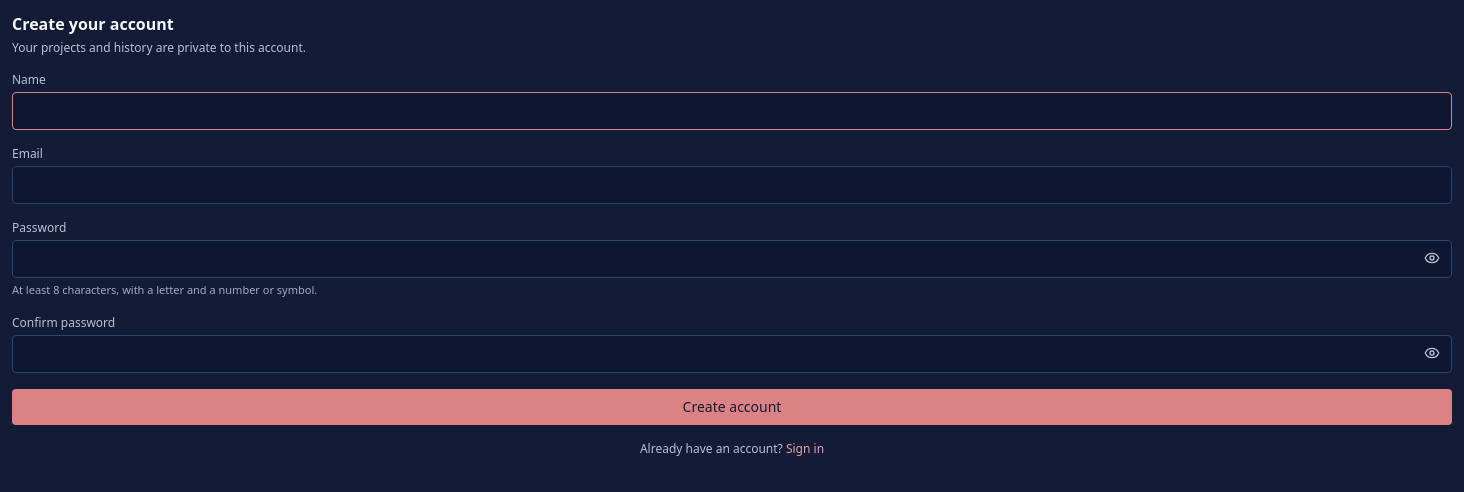
Test: RegisterForm › validates password rules and confirmation locally
The width and height of the screenshot is (1464, 492).
Type "Ada" into the field labelled "Name" at (732, 111), box [12,92,1452,130]
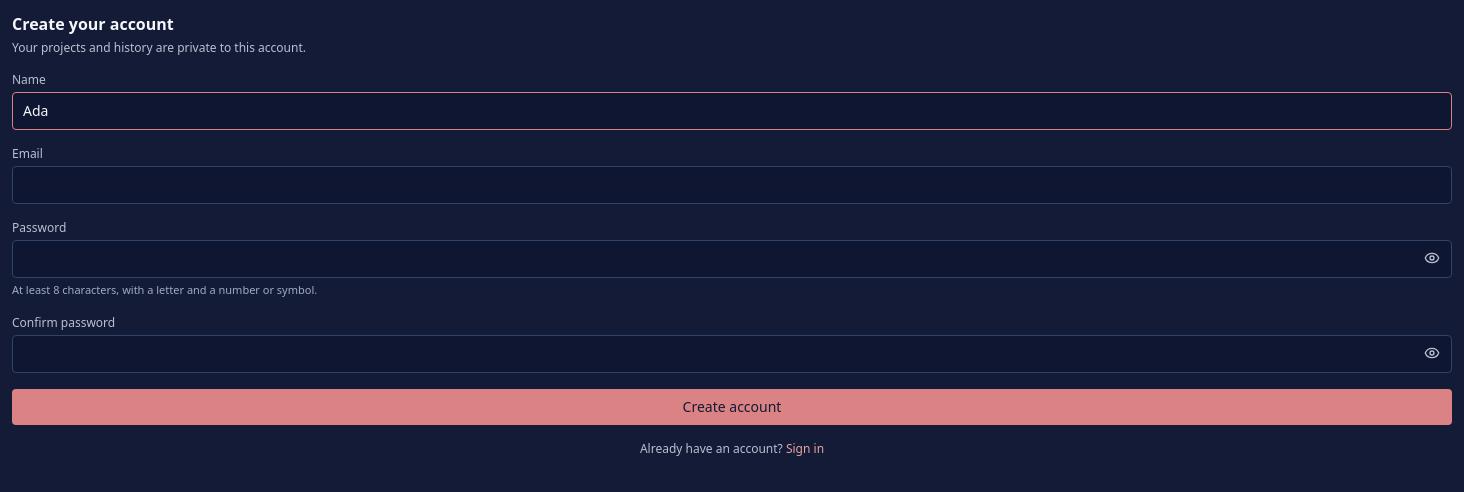
Type "ada@example.com" into the field labelled "Email" at (732, 185), box [12,166,1452,204]
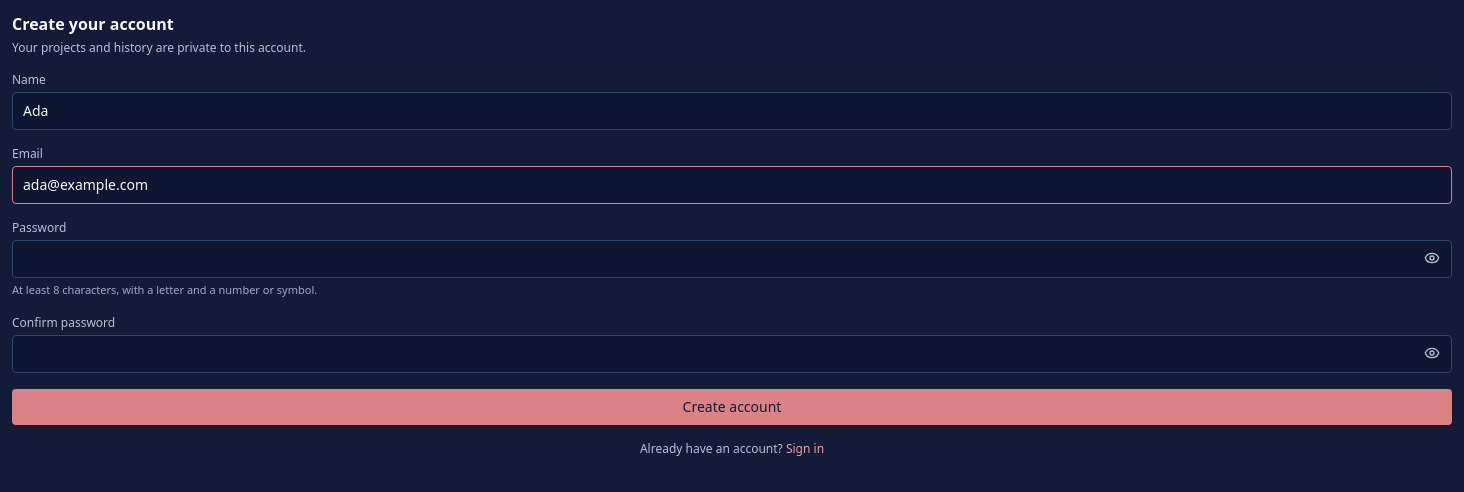
Type "onlyletters" into the password field labelled "Password" at (732, 259), box [12,240,1452,278]
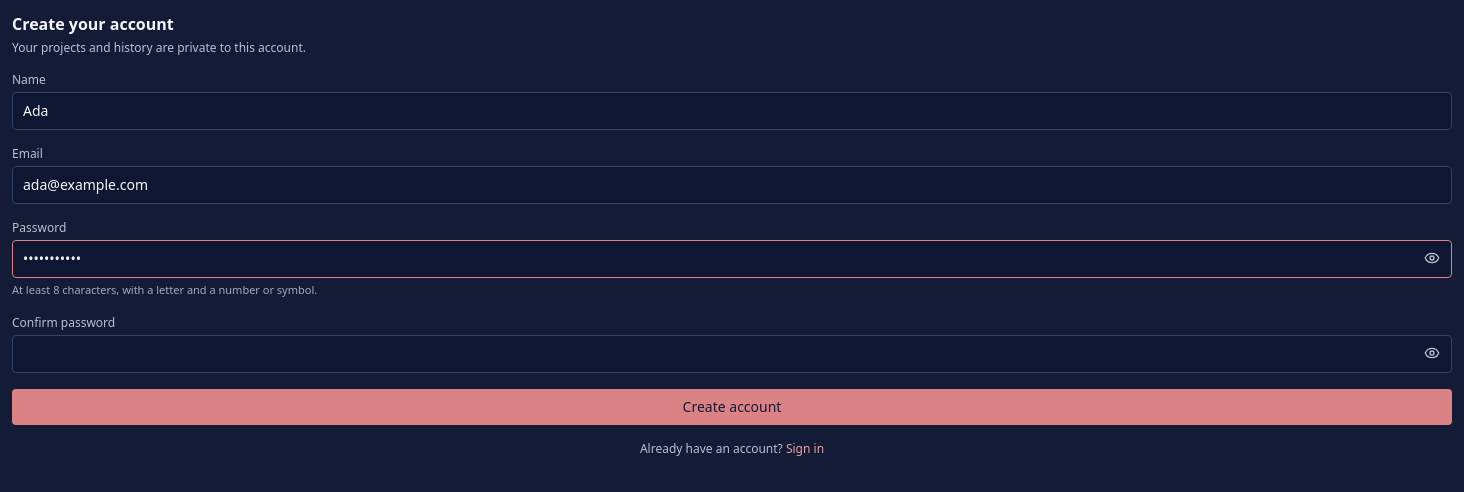
Type "different" into the password field labelled "Confirm password" at (732, 354), box [12,334,1452,372]
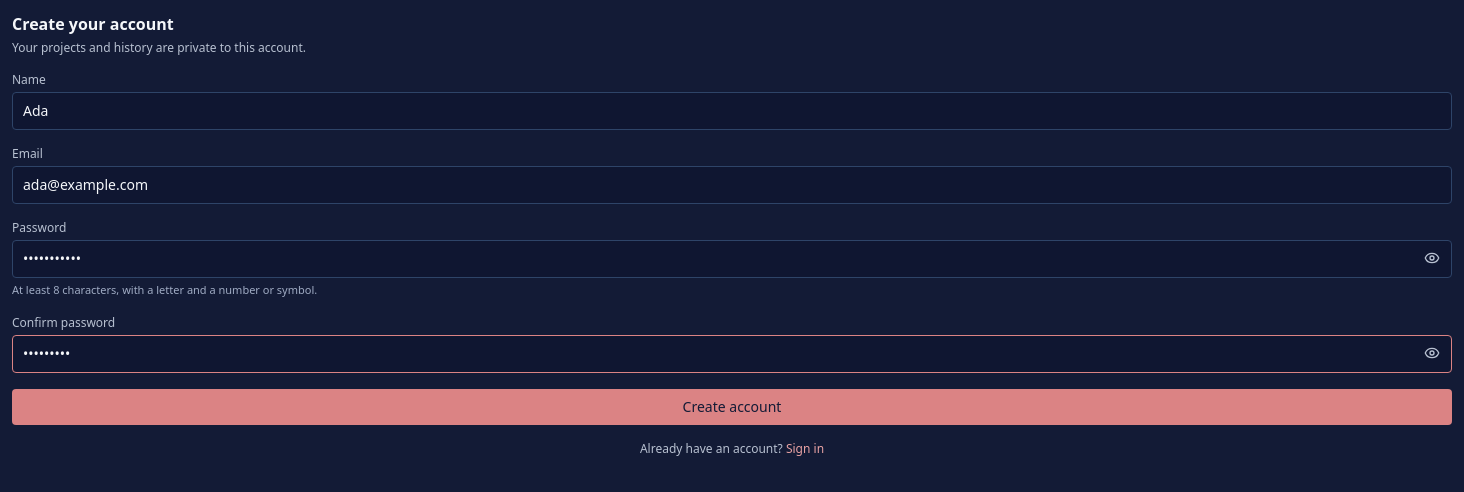
Click the button "Create account" at (732, 406), box [12,388,1452,424]
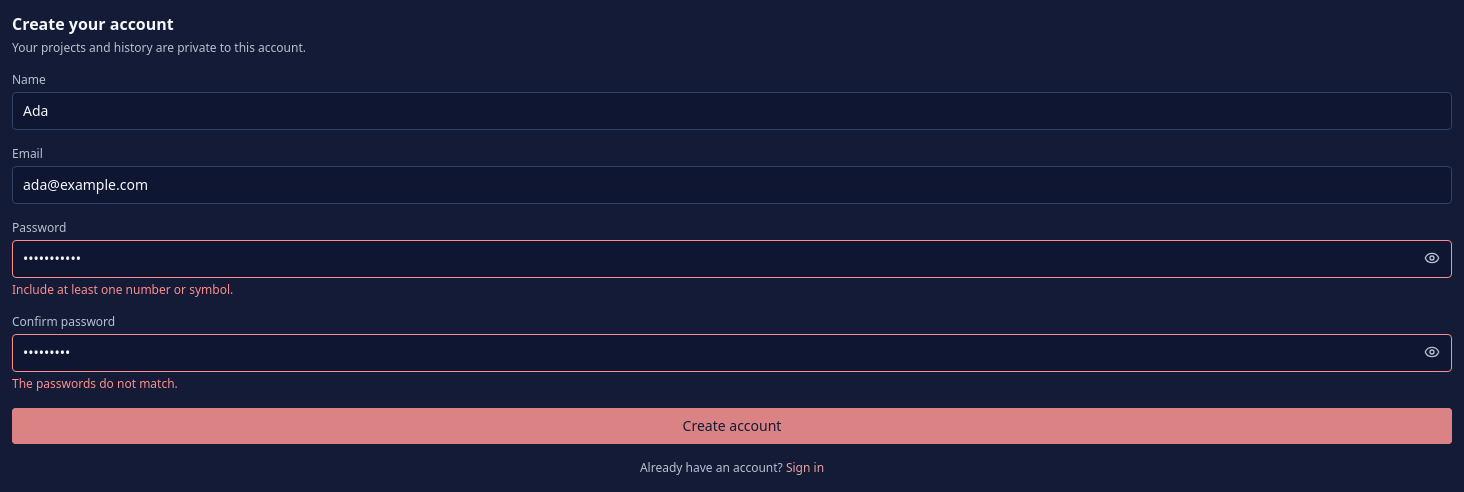
Expected: the text "Include at least one number or symbol." is shown, [12,281,233,298]
Expected: the text "The passwords do not match." is shown, [12,375,178,392]
